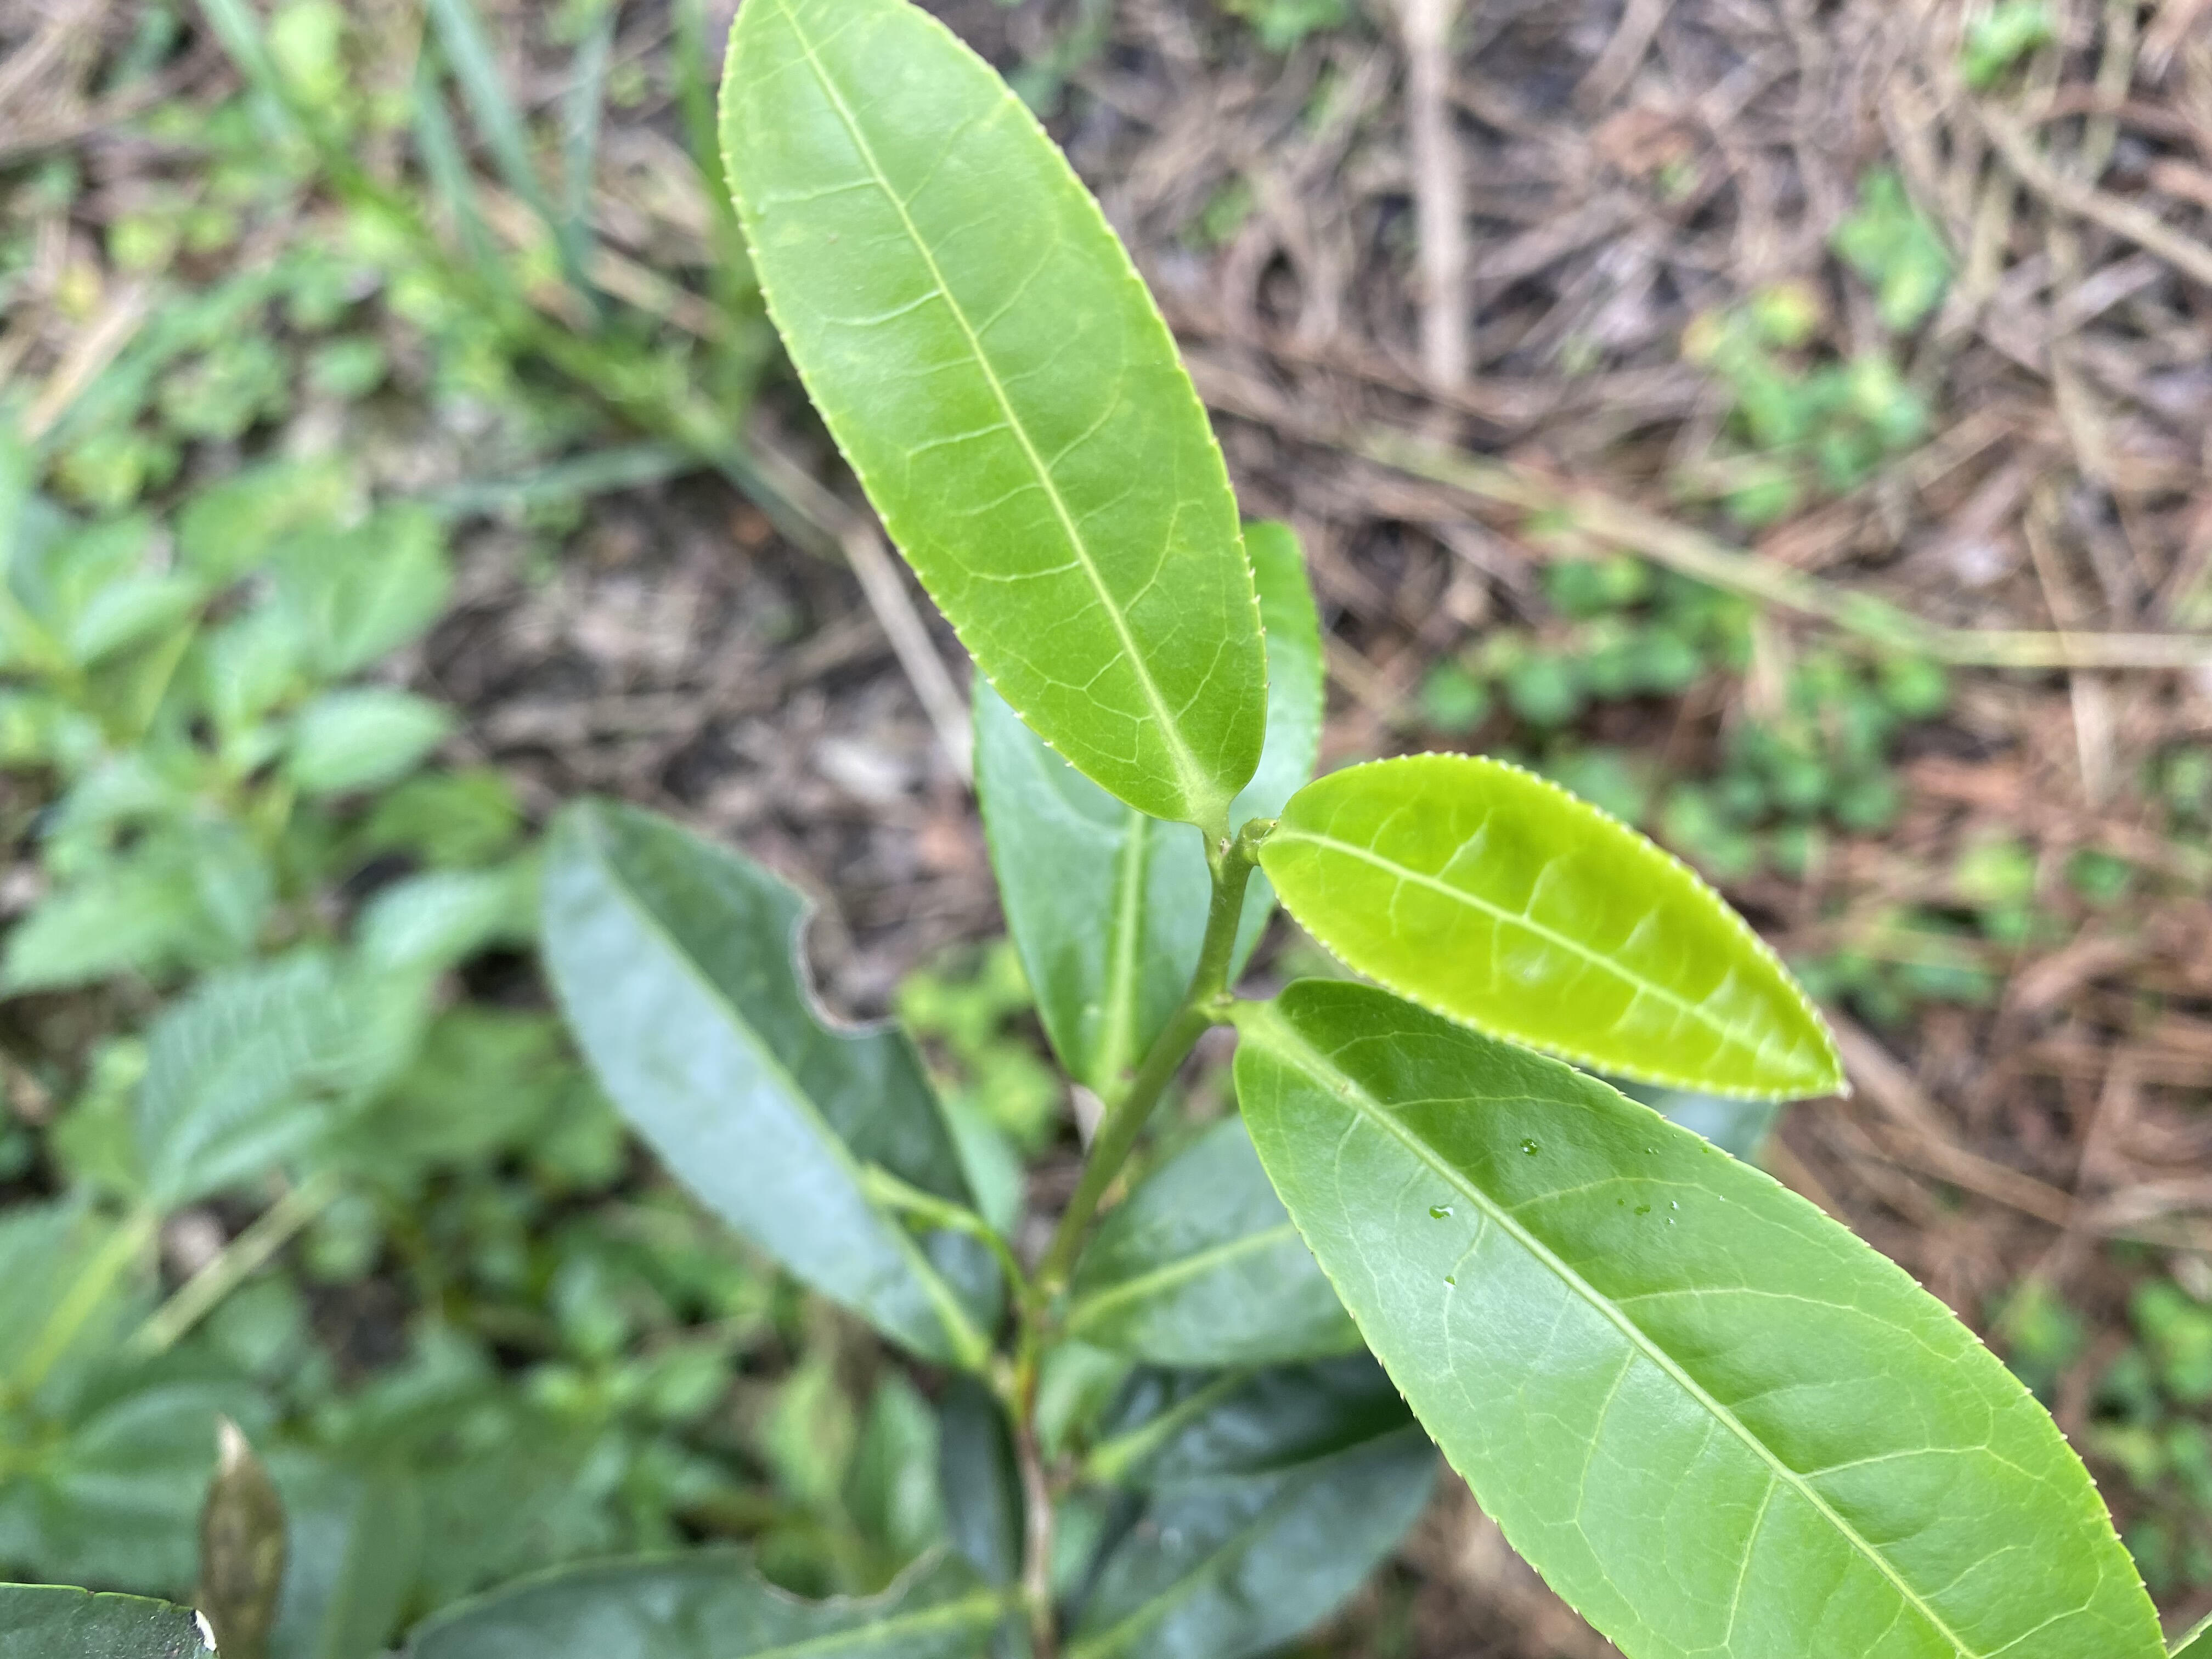chihuo_low: (533, 798, 1005, 1366)
healthy: (1233, 976, 2174, 1657), (711, 2, 1271, 823), (1254, 751, 1843, 1101)
